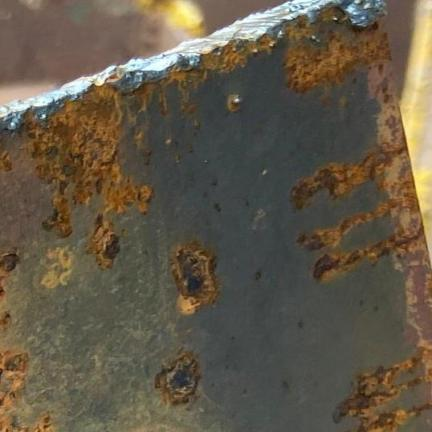karat: (34, 20, 431, 350), (333, 348, 431, 431), (291, 147, 401, 208), (314, 231, 419, 280), (297, 199, 395, 250), (171, 242, 218, 311), (0, 349, 29, 431), (88, 214, 120, 269), (332, 0, 384, 27), (43, 194, 71, 237)
